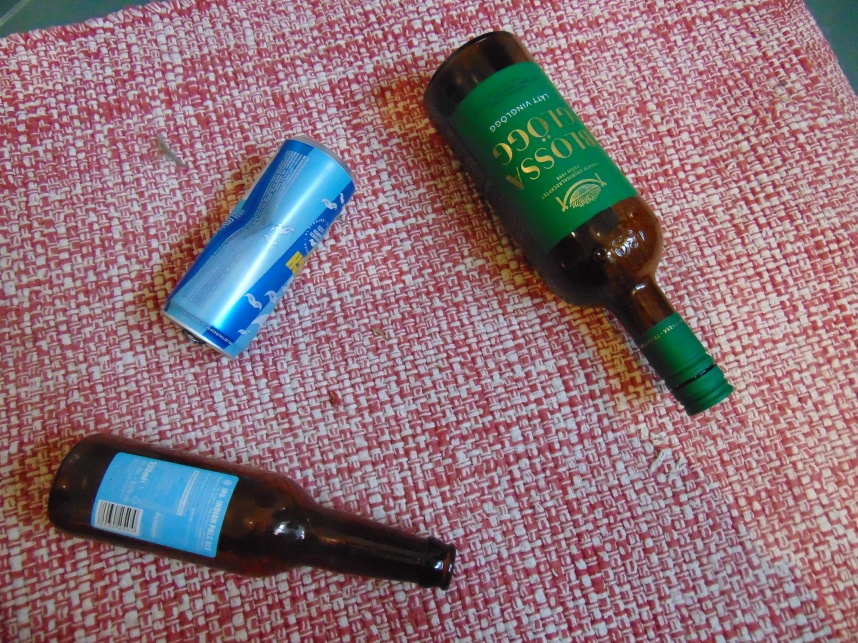glass_bottle: (422, 28, 737, 420), (47, 432, 458, 593)
metal_can: (164, 136, 357, 358)
